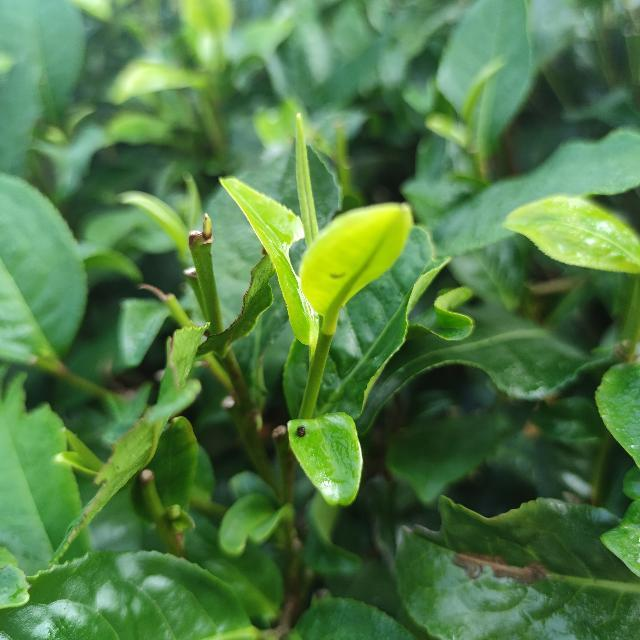Stem: (319, 335, 330, 349)
